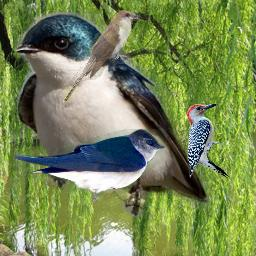Cuckoo: (63, 10, 142, 103)
Swallow: (17, 12, 212, 218), (12, 129, 167, 205)
Woodpecker: (183, 100, 233, 184)
